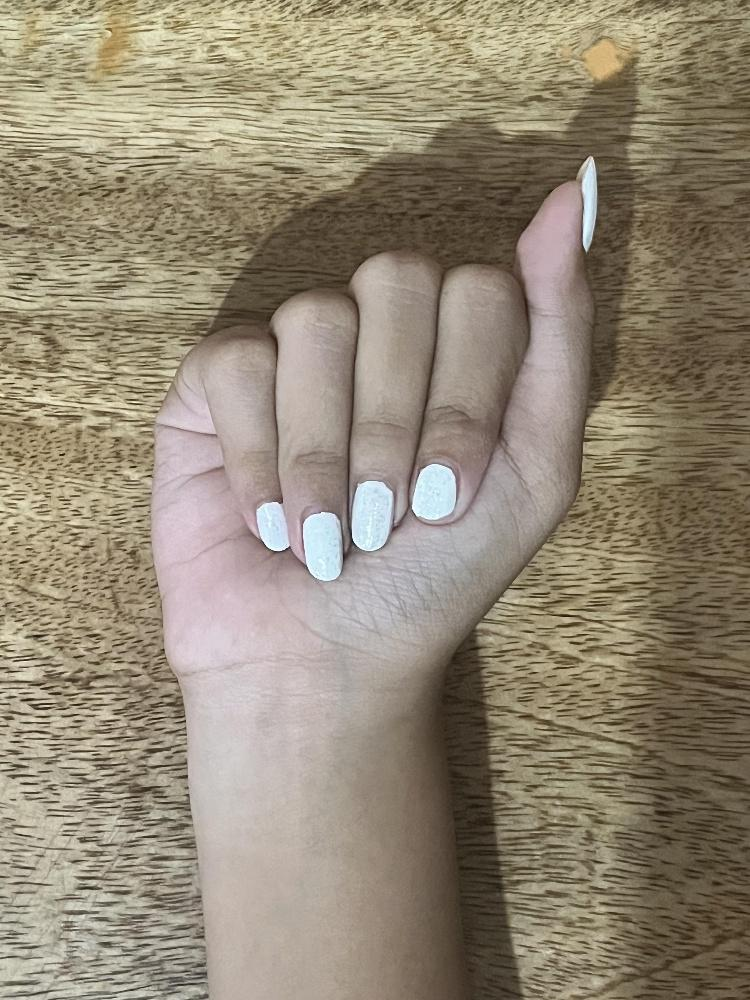a: (142, 154, 601, 675)
